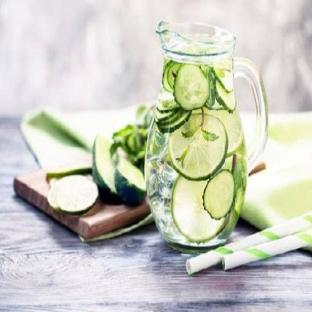Cucumber: (169, 115, 228, 180), (171, 176, 224, 243), (56, 175, 98, 214), (174, 65, 209, 110), (209, 110, 243, 156), (115, 157, 146, 205), (204, 170, 234, 219), (93, 136, 115, 192), (158, 111, 191, 133), (47, 162, 92, 178), (215, 80, 236, 112), (156, 109, 185, 126), (213, 69, 233, 92), (167, 63, 181, 89), (48, 179, 59, 210), (163, 60, 173, 92), (207, 69, 215, 107), (157, 100, 179, 112), (156, 109, 178, 121)
